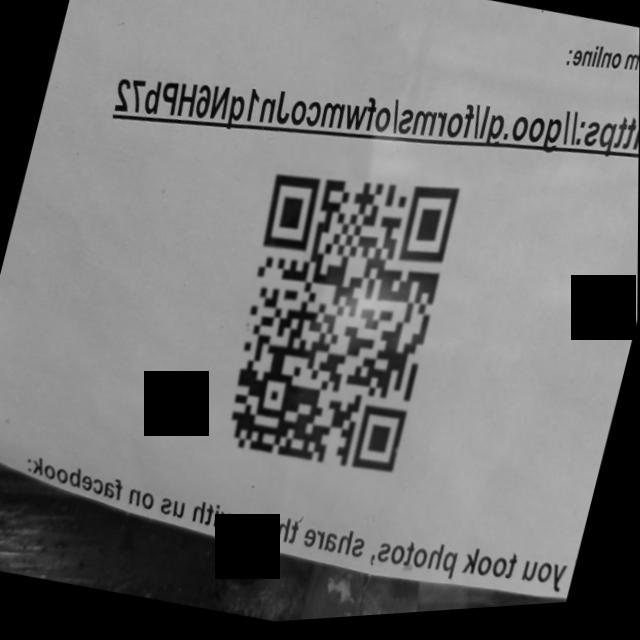QR_CODE: (193, 124, 484, 522)
